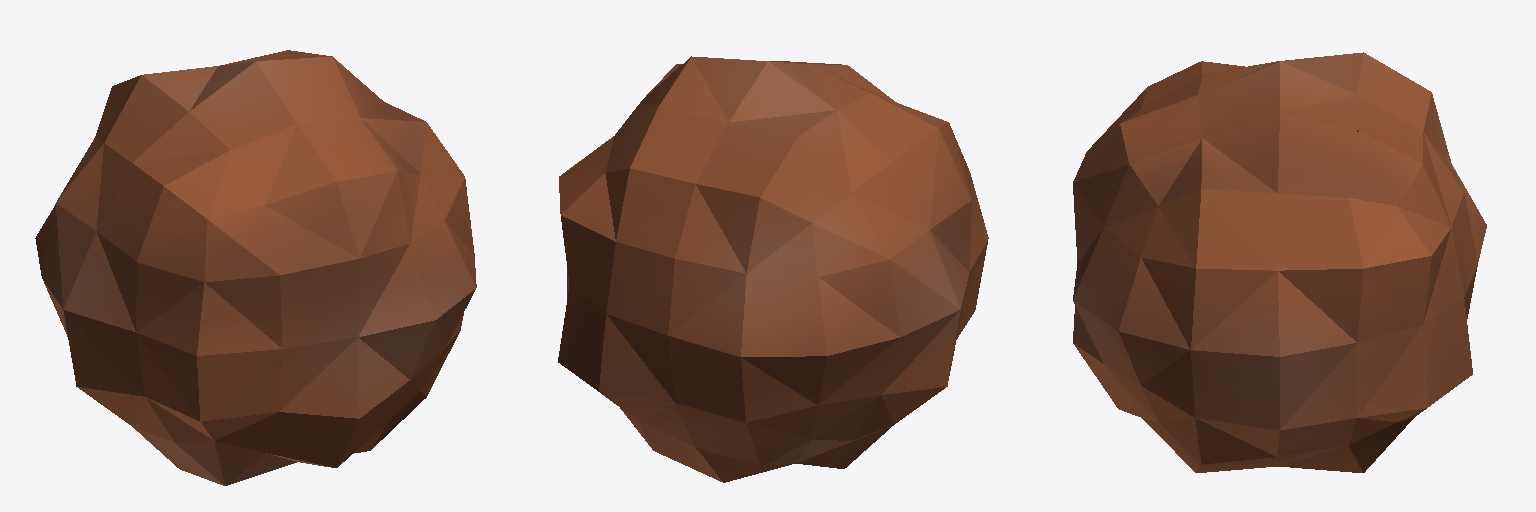
The picture shows the model from 3 angles: view 1: azimuth 30°, elevation 25°; view 2: azimuth 150°, elevation 25°; view 3: azimuth 270°, elevation 25°; orthographic projection.
Visible parts, largest first — view 1: Cube; view 2: Cube; view 3: Cube.
Part boxes in pixels (x1,y1,x2,y2): Cube: (35, 50, 476, 485); Cube: (558, 56, 988, 482); Cube: (1073, 52, 1486, 472).
Size of the model in its own units: 0.5826 by 0.5626 by 0.5426.
1 materials, 1 textured.